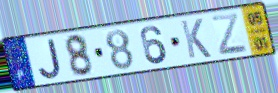6: (139, 25, 169, 65)
8: (104, 27, 136, 72), (65, 33, 94, 78)
J: (36, 37, 63, 81)
K: (178, 17, 213, 61)
Z: (209, 11, 250, 57)
